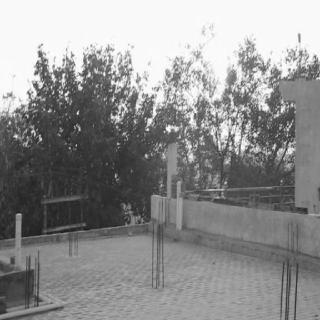other: (167, 2, 279, 146)
